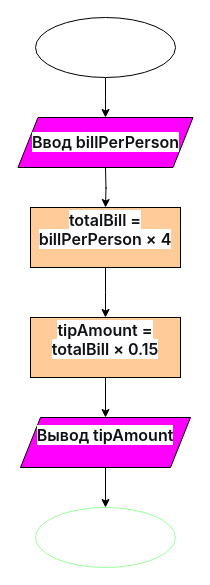
The diagram is 210 pixels wide and 585 high, and some of its shapes have lost their labels. Each missing label, with the centre of its shape:
"КОНЕЦ" belongs at point 105,537.
"СТАРТ" belongs at point 105,47.
